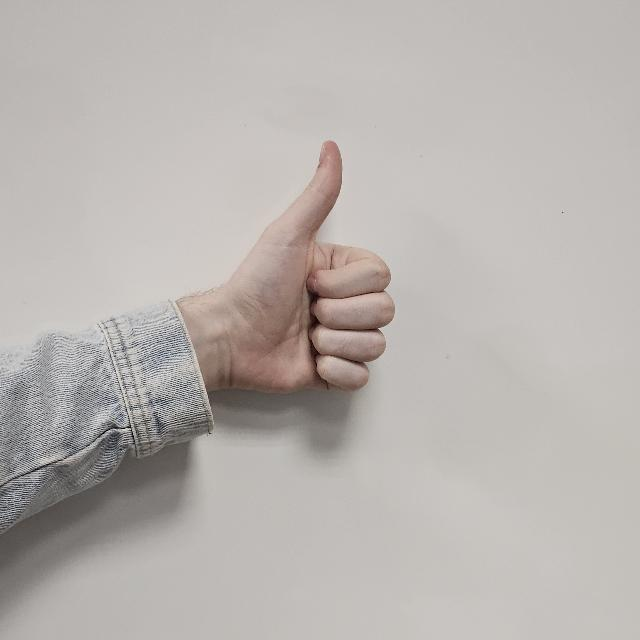Start: (206, 136, 404, 394)
